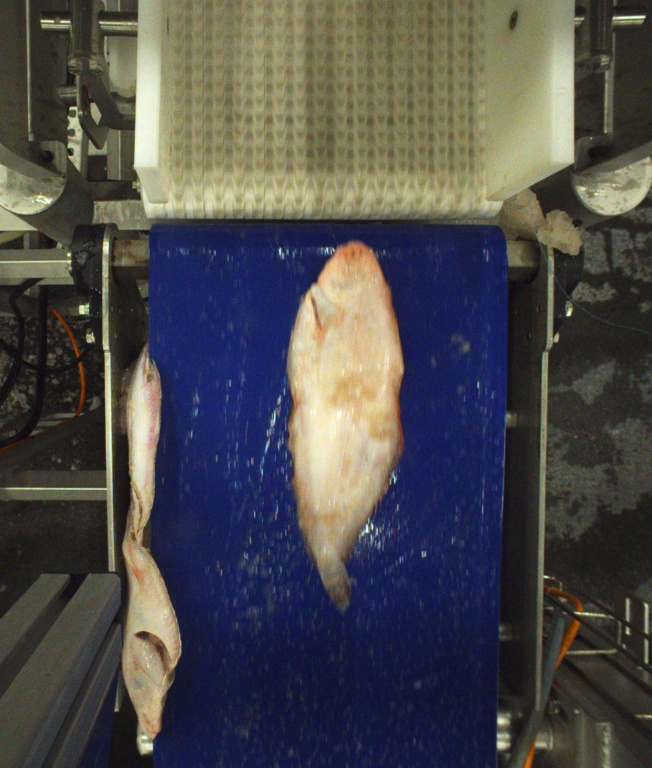SOL: (289, 242, 403, 609)
